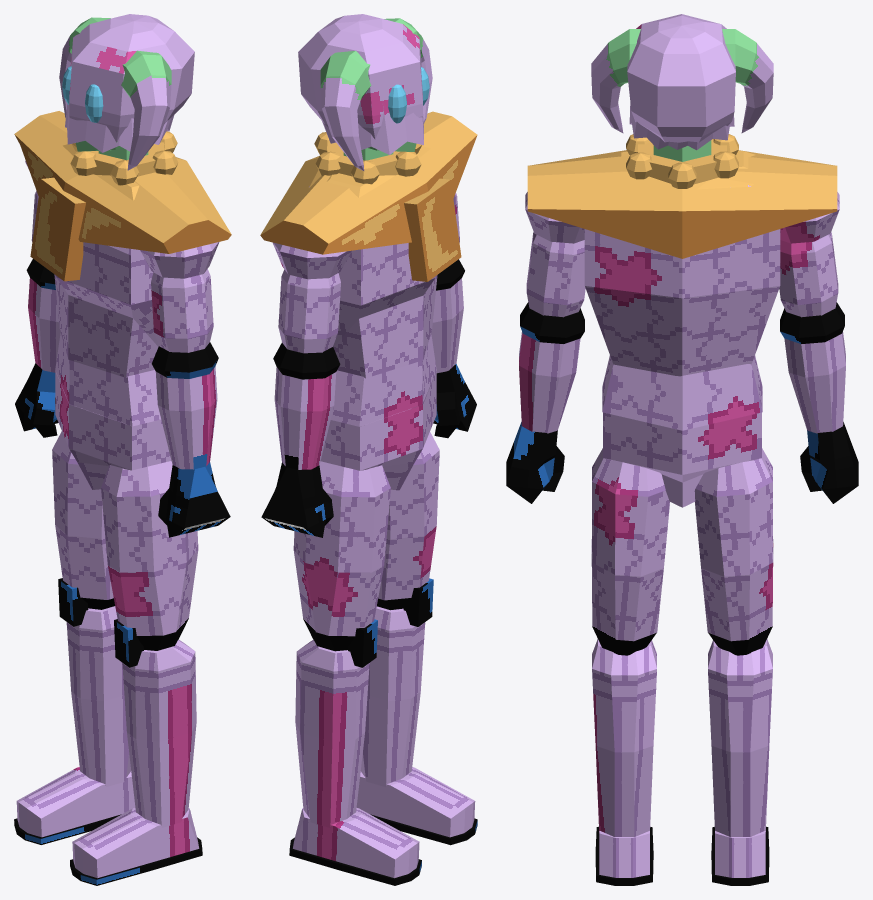
File: Nothing.glb
The picture shows the model from 3 angles, left to right: view 1: azimuth 30°, elevation 25°; view 2: azimuth 150°, elevation 25°; view 3: azimuth 270°, elevation 25°; orthographic projection. The views are drawn at different scales.
Visible parts, largest first — view 1: Torso (×2), Cabeça, Perna Cima E, Perna Baixo E, Perna Baixo D, Perna Cima D, Pé E, Braço Baixo E, Braço Cima E, Pé D, Pélvis, Pélvis 2 (+4 smaller); view 2: Torso (×2), Cabeça, Perna Cima D, Perna Baixo D, Perna Baixo E, Perna Cima E, Pé D, Braço Baixo D, Braço Cima D, Pé E, Pélvis, Pélvis 2 (+4 smaller); view 3: Torso (×2), Cabeça, Perna Cima D, Perna Cima E, Perna Baixo E, Perna Baixo D, Pélvis 2, Pélvis, Braço Baixo E, Braço Baixo D, Braço Cima E, Braço Cima D (+4 smaller).
Part boxes in pixels (x1,y1,x2,y2): Torso (×2): (14, 111, 231, 377); Cabeça: (59, 14, 194, 170); Perna Cima E: (101, 461, 198, 650); Perna Baixo E: (114, 619, 196, 827); Perna Baixo D: (58, 578, 131, 786); Perna Cima D: (52, 410, 114, 609); Pé E: (70, 808, 202, 885); Braço Baixo E: (151, 342, 218, 469); Braço Cima E: (140, 242, 219, 352); Pé D: (14, 767, 135, 844); Pélvis: (55, 371, 171, 489); Pélvis 2: (55, 333, 160, 426); Torso (×2): (260, 111, 477, 378); Cabeça: (298, 14, 432, 170); Perna Cima D: (293, 461, 390, 651); Perna Baixo D: (295, 619, 377, 827); Perna Baixo E: (360, 578, 433, 787); Perna Cima E: (377, 409, 439, 610); Pé D: (289, 808, 421, 885); Braço Baixo D: (273, 343, 340, 469); Braço Cima D: (273, 242, 351, 353); Pé E: (356, 767, 477, 845); Pélvis: (320, 371, 436, 490); Pélvis 2: (330, 333, 436, 426); Torso (×2): (527, 134, 837, 376); Cabeça: (591, 14, 773, 150); Perna Cima D: (694, 448, 773, 655); Perna Cima E: (591, 448, 669, 655); Perna Baixo E: (592, 639, 656, 837); Perna Baixo D: (708, 639, 772, 837); Pélvis 2: (602, 355, 762, 430); Pélvis: (603, 412, 761, 507); Braço Baixo E: (519, 302, 584, 433); Braço Baixo D: (780, 302, 845, 433); Braço Cima E: (525, 192, 585, 317); Braço Cima D: (779, 192, 839, 317).
Size of the model in its own units: 1.8 by 9.96 by 3.75.
Materials: 6 (6 with a texture image).
